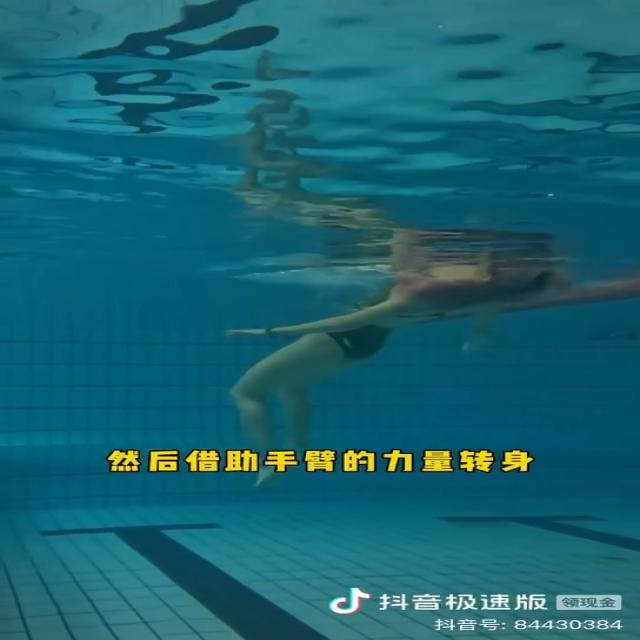Drowning: (230, 264, 545, 490)
